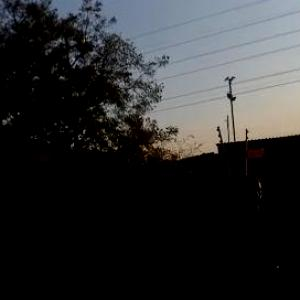follow: (227, 169, 300, 299)
